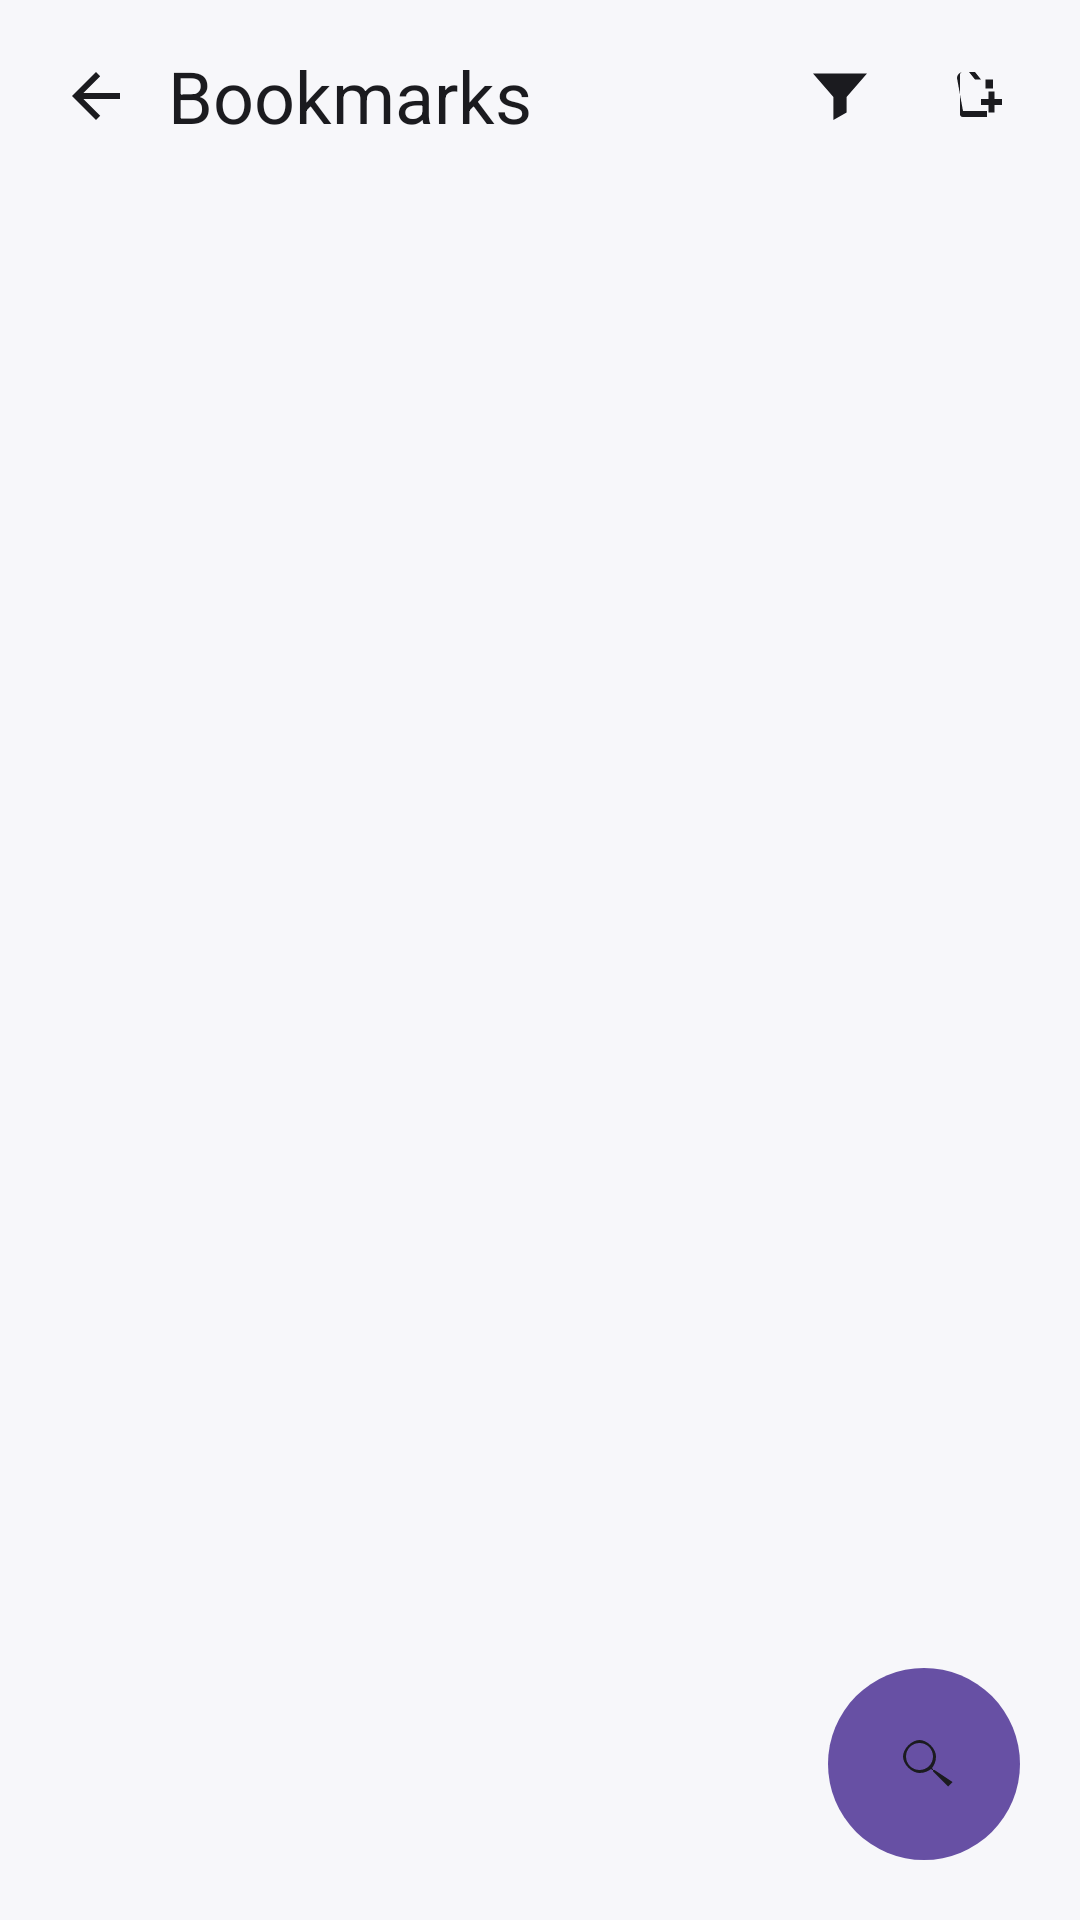

Where to tap for icons on this 1080px×1920px app screen, as (x,y):
filter: (840,96)
search: (924,1764)
